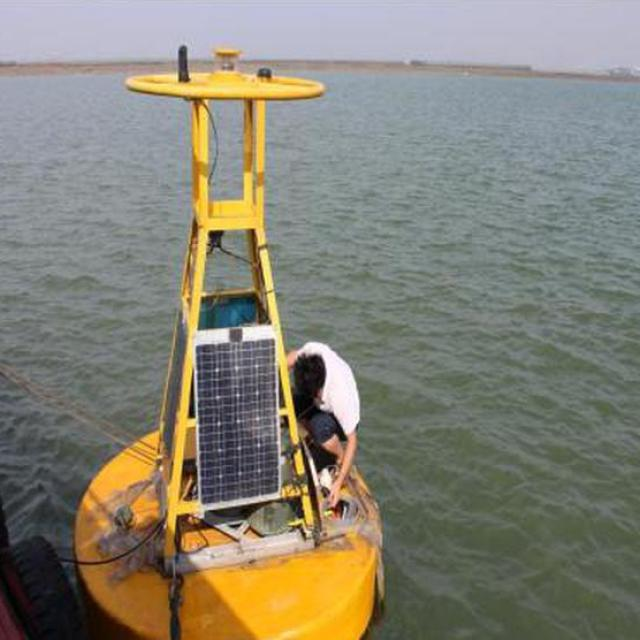buoy: (73, 41, 384, 640)
